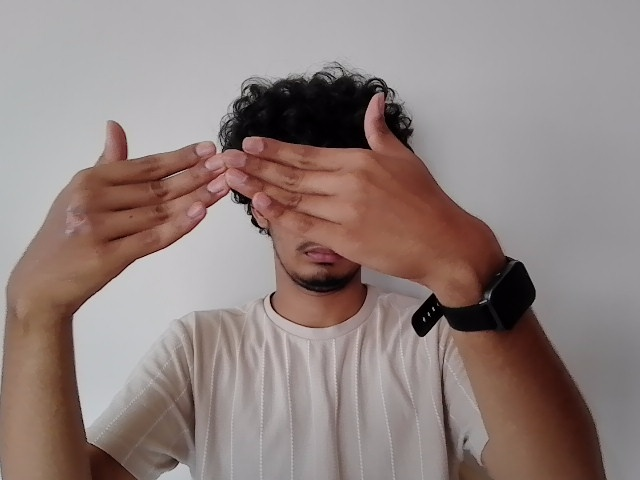family: (15, 92, 479, 309)
